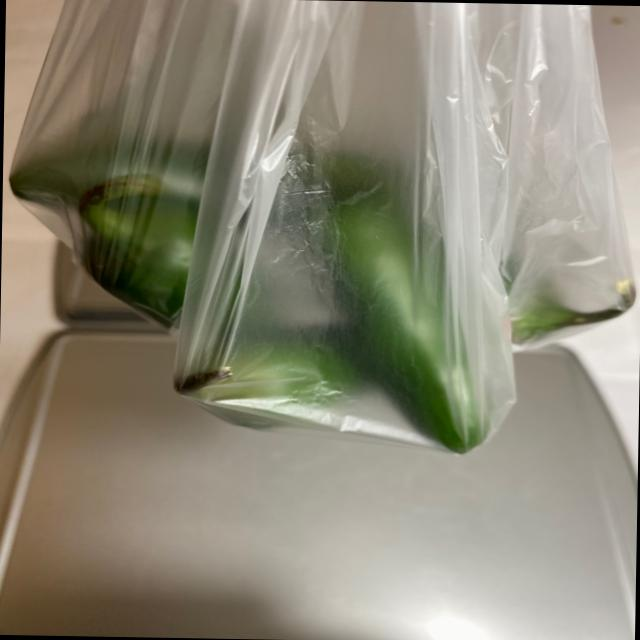chilli: (9, 118, 640, 463)
